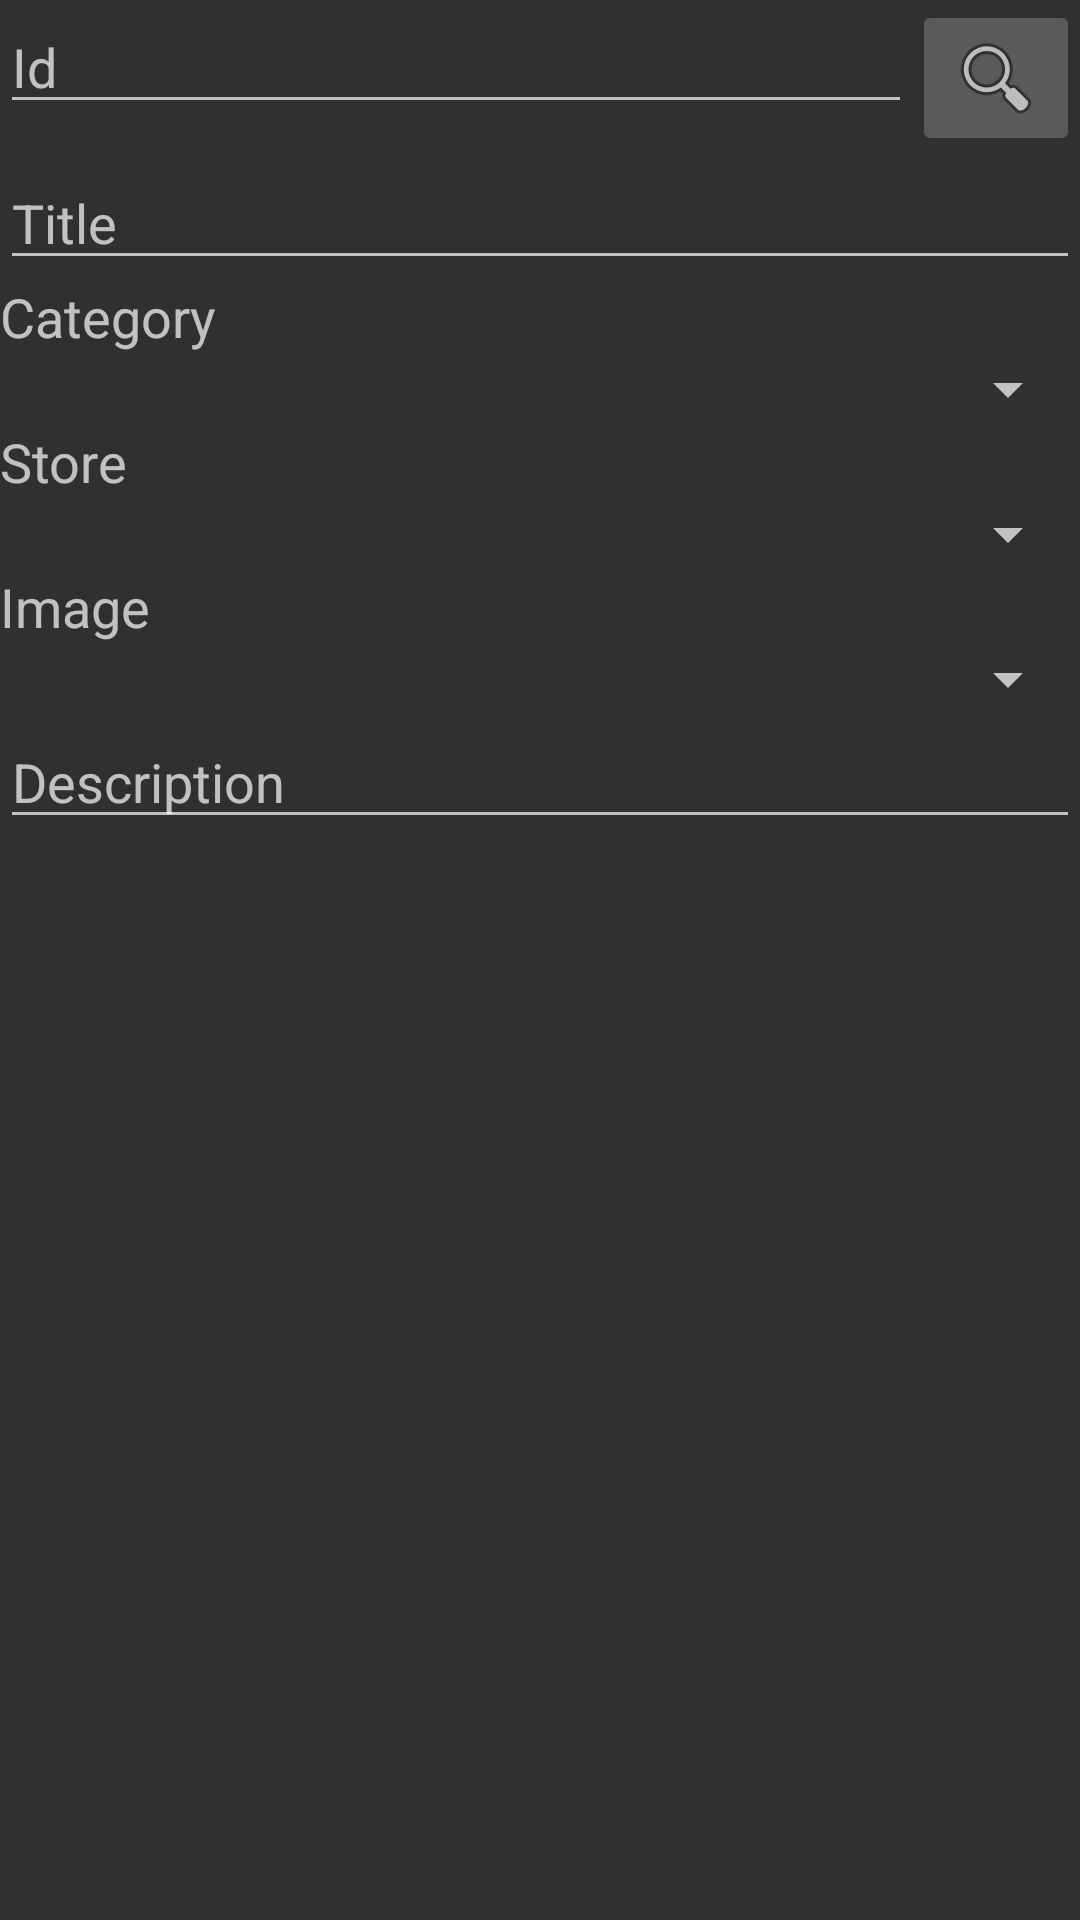

Screen size 1080×1920. Icon name, then its center in pixels as (x,y):
search: (996,78)
